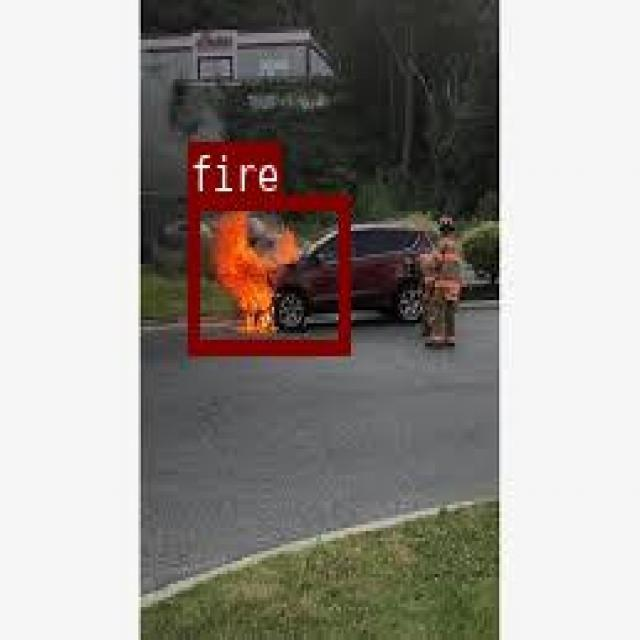fire: (187, 193, 347, 353)
